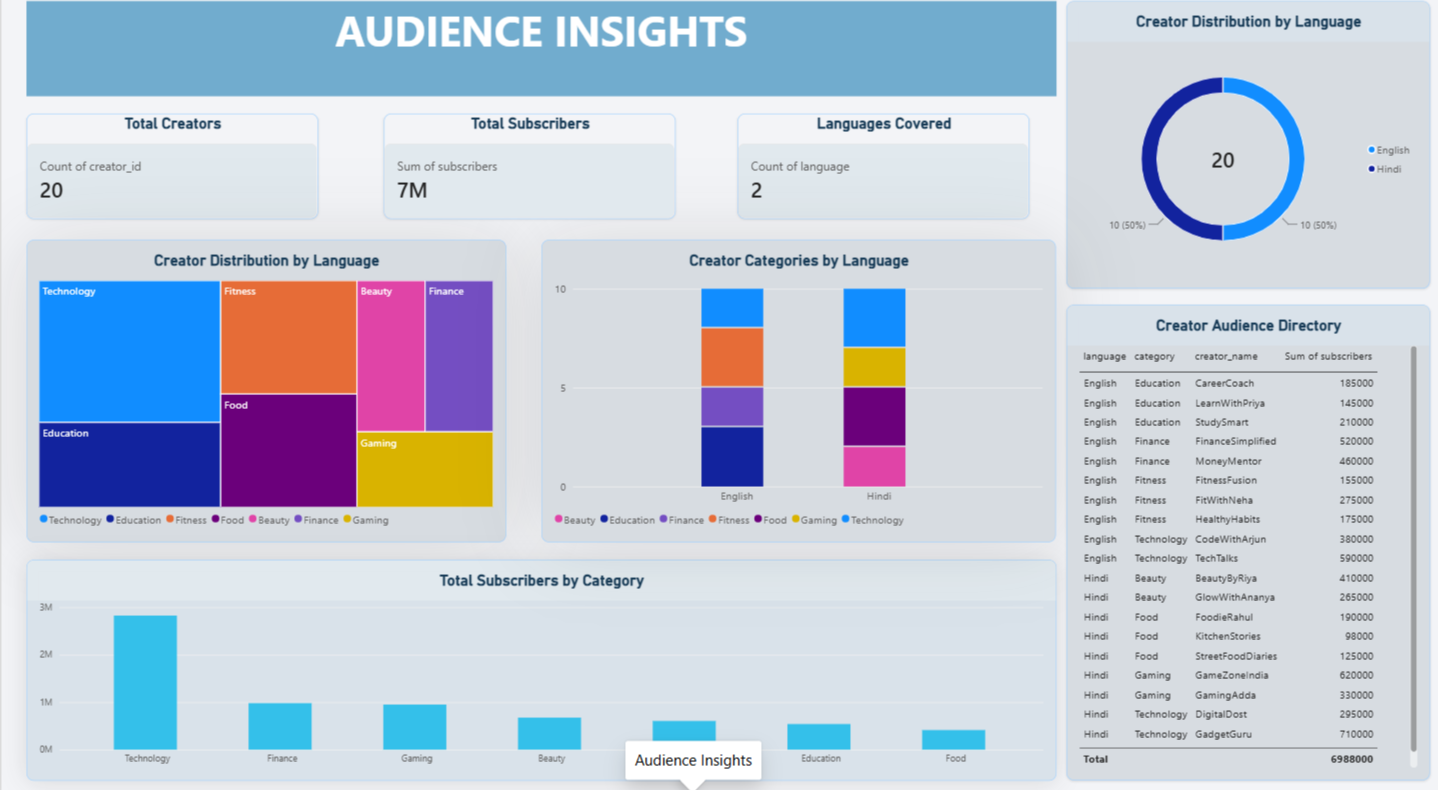

What the dashboard file says about the page in this screenshot:
{"tool":"powerbi","page":{"name":"Audience Insights","canvas":[1920,1080],"ordinal":3},"visuals":[{"type":"cardVisual","title":"Total Creators","fields":{"Data":["Count(final_creator_scores.creator_id)"]},"box":[33.2,166.2,389.8,141],"z":0},{"type":"cardVisual","title":"Languages Covered","fields":{"Data":["Count(final_creator_scores.language)"]},"box":[984.2,166.2,389.8,141],"z":1000},{"type":"donutChart","title":"Creator Distribution by Language","fields":{"Y":["Count(final_creator_scores.creator_id)"],"Category":["final_creator_scores.language"]},"box":[1422.4,16.3,485.6,384.1],"z":2000},{"type":"treemap","title":"Creator Distribution by Language","fields":{"Values":["Count(final_creator_scores.creator_id)"],"Group":["final_creator_scores.category"]},"box":[33.2,336.1,640.7,404.4],"z":3000},{"type":"clusteredColumnChart","title":"Total Subscribers by Category","fields":{"Category":["final_creator_scores.category"],"Y":["Sum(final_creator_scores.subscribers)"]},"box":[33.2,762.6,1375.7,295.4],"z":4000},{"type":"columnChart","title":"Creator Categories by Language","fields":{"Y":["Count(final_creator_scores.creator_id)"],"Category":["final_creator_scores.language"],"Series":["final_creator_scores.category"]},"box":[722,336.1,686.9,404.4],"z":5000},{"type":"tableEx","title":"Creator Audience Directory","fields":{"Values":["final_creator_scores.language","final_creator_scores.category","final_creator_scores.creator_name","Sum(final_creator_scores.subscribers)"]},"box":[1421.8,422.9,485.6,635.2],"z":6000},{"type":"cardVisual","title":"Total Subscribers","fields":{"Data":["Sum(final_creator_scores.subscribers)"]},"box":[511.5,166.2,389.8,141],"z":7000},{"type":"textbox","box":[33.2,16.6,1375.7,127.4],"z":8000}]}

Visuals, with their boxes in screenshot pixels (x1, y1, x2, y2), scaled from the page's 1920x1080 canvas onto the 1438x790 screenshot:
"Total Creators" cardVisual: x1=25, y1=122, x2=317, y2=225
"Languages Covered" cardVisual: x1=737, y1=122, x2=1029, y2=225
"Creator Distribution by Language" donutChart: x1=1065, y1=12, x2=1429, y2=293
"Creator Distribution by Language" treemap: x1=25, y1=246, x2=505, y2=542
"Total Subscribers by Category" clusteredColumnChart: x1=25, y1=558, x2=1055, y2=774
"Creator Categories by Language" columnChart: x1=541, y1=246, x2=1055, y2=542
"Creator Audience Directory" tableEx: x1=1065, y1=309, x2=1429, y2=774
"Total Subscribers" cardVisual: x1=383, y1=122, x2=675, y2=225
textbox: x1=25, y1=12, x2=1055, y2=105
